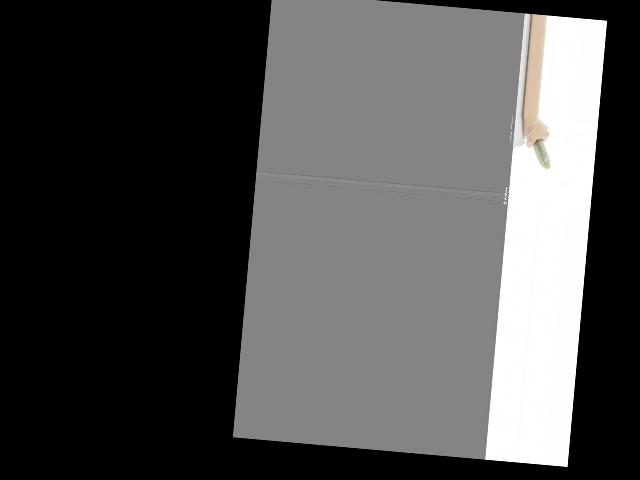cucumber: (530, 138, 552, 169)
